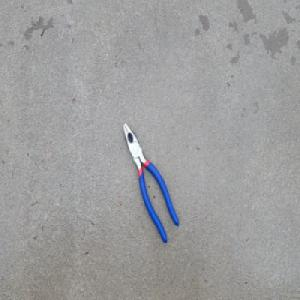Pliers: (121, 119, 180, 244)
